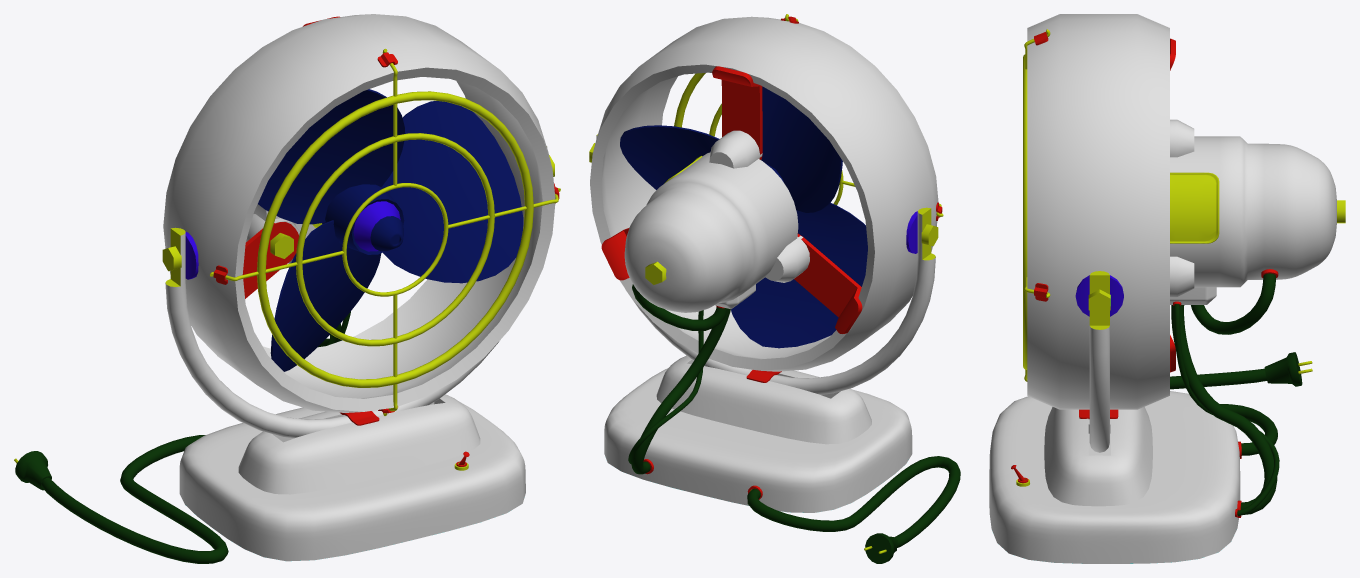
3 renders of one model, left to right at view 1: azimuth 30°, elevation 25°; view 2: azimuth 150°, elevation 25°; view 3: azimuth 270°, elevation 25°, orthographic. The views are drawn at different scales.
Visible parts, largest first — view 1: Cylinder.003_copy_low; view 2: Cylinder.003_copy_low; view 3: Cylinder.003_copy_low.
Boxes of the visible parts, x1,y1,x2,y2 form: Cylinder.003_copy_low: (14, 14, 560, 563); Cylinder.003_copy_low: (589, 14, 960, 563); Cylinder.003_copy_low: (989, 14, 1345, 563).
Bounding box in the file's own units: 2.72 × 2.8 × 1.94.
